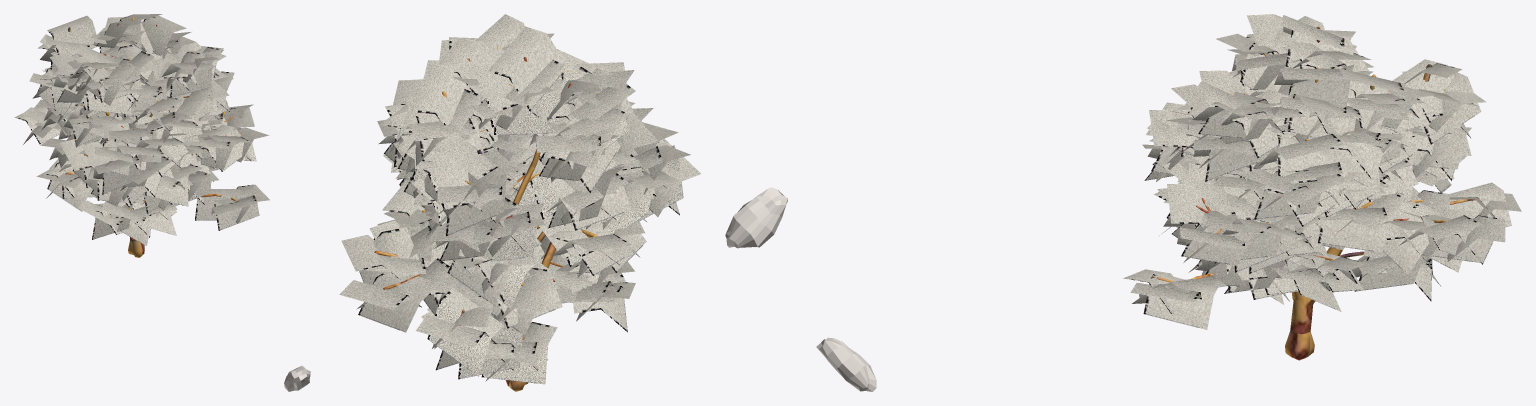
The model's file is natural_env_tiny2.gltf.
The picture shows the model from 3 angles, left to right: view 1: azimuth 30°, elevation 25°; view 2: azimuth 150°, elevation 25°; view 3: azimuth 270°, elevation 25°; orthographic projection. The views are drawn at different scales.
Visible parts, largest first — view 1: Walnut_L.001, Rock.Landscape.Style_2.004; view 2: Walnut_L.001, Rock.Landscape.Style_2.004; view 3: Walnut_L.001, Rock.Landscape.Style_2.004.
Boxes of the visible parts, x1,y1,x2,y2 form: Walnut_L.001: (14,14,269,257); Rock.Landscape.Style_2.004: (284,365,310,391); Walnut_L.001: (339,14,700,391); Rock.Landscape.Style_2.004: (725,187,787,248); Walnut_L.001: (1123,14,1521,360); Rock.Landscape.Style_2.004: (816,337,876,391).
Size of the model in its own units: 11.23 by 15.31 by 27.13.
2 materials, 1 textured.
